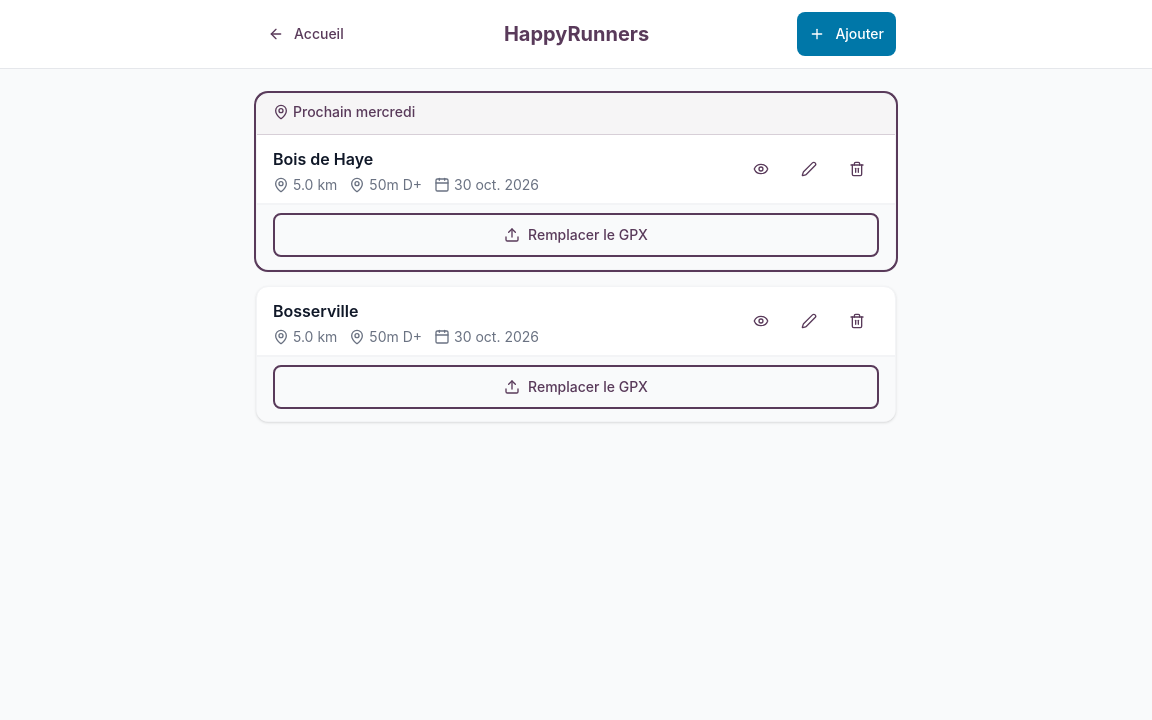
Test: ParcoursList — suppression › un clic ouvre une confirmation et ne supprime rien
The image size is (1152, 720).
Check: the heading "Bois de Haye" is shown, box [273,149,373,169]
Click the button named "Supprimer" in the row of "Bois de Haye". click: x=857, y=169
box: [835,147,879,191]
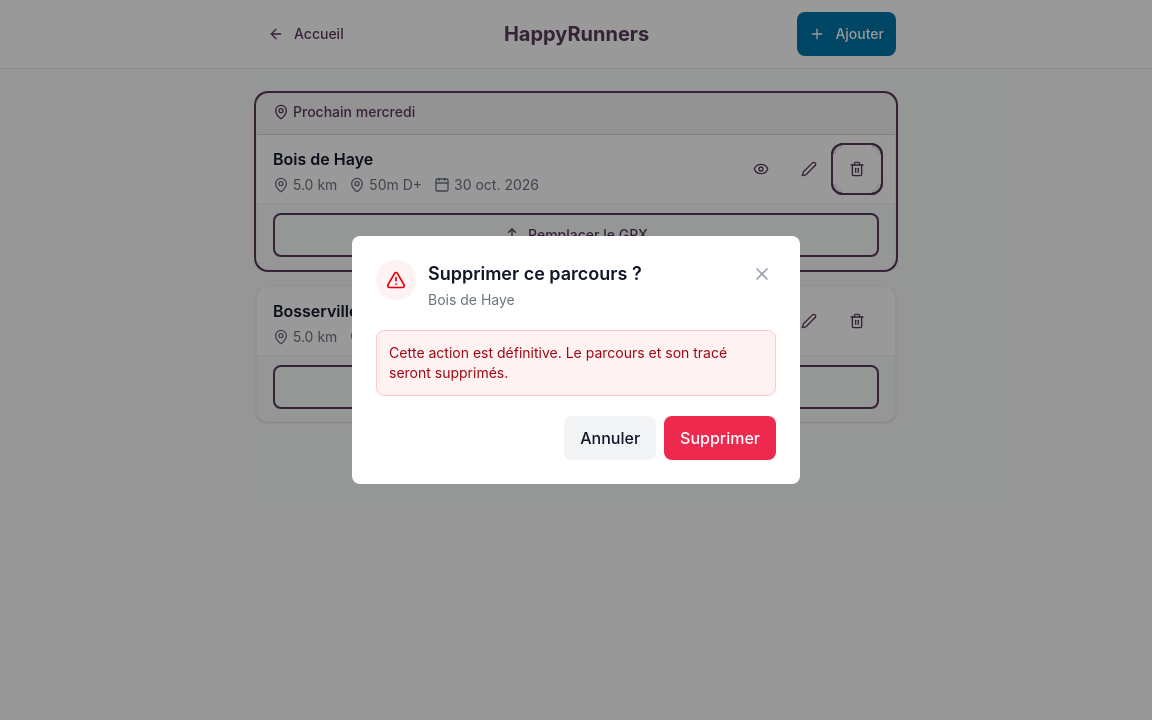
Check: the dialog is shown
Check: the heading "Supprimer ce parcours ?" is shown, box [428,260,642,288]
Check: the text "Bois de Haye" is shown, box [428,291,515,308]
